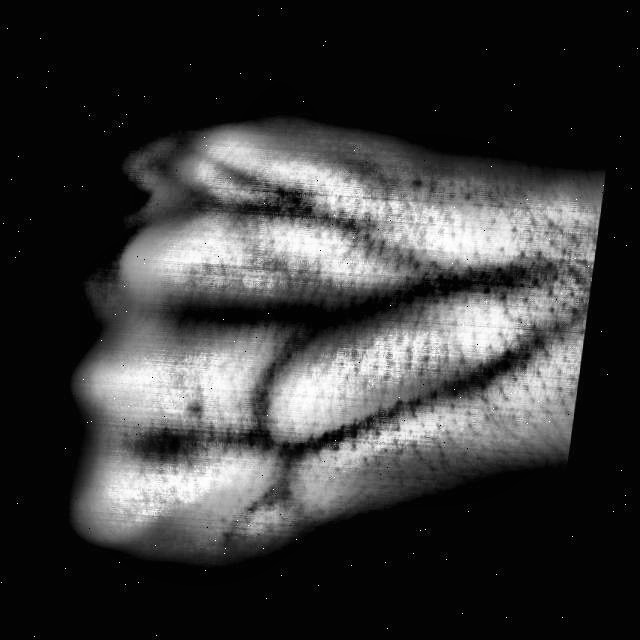Vein: (315, 345, 517, 465), (335, 245, 538, 338)
